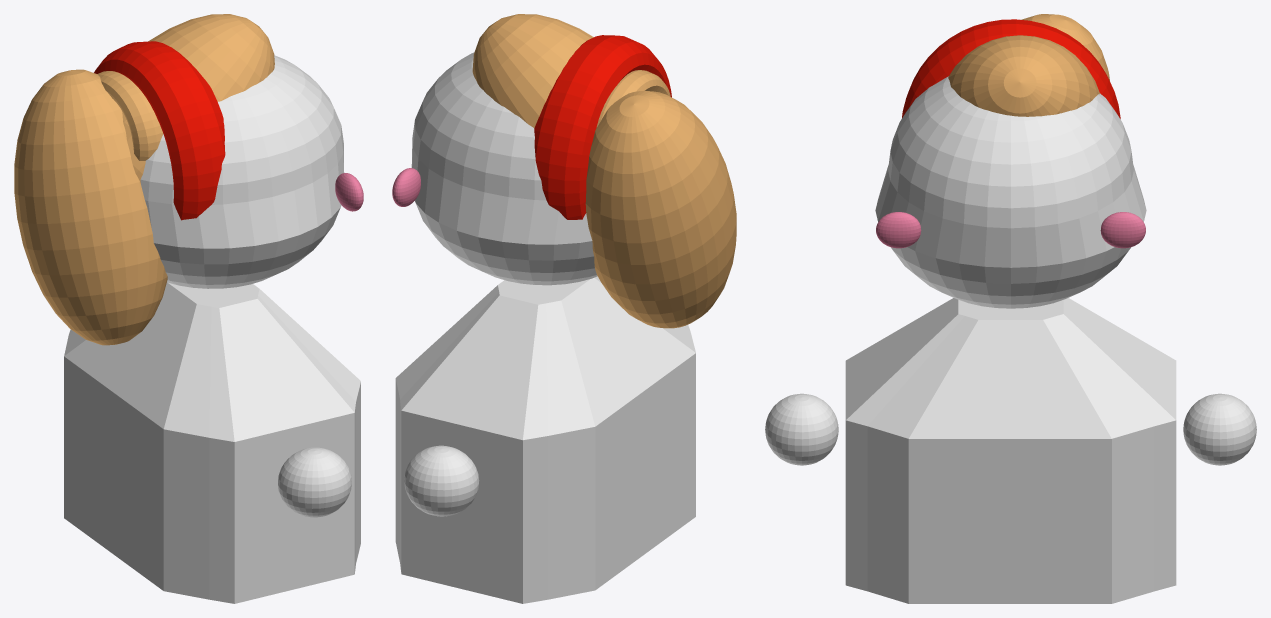
Rendered from Rebecca.fbx.
The picture shows the model from 3 angles, left to right: view 1: azimuth 30°, elevation 25°; view 2: azimuth 150°, elevation 25°; view 3: azimuth 270°, elevation 25°; orthographic projection.
Visible parts, largest first — view 1: Cube, Sphere.002, Sphere, Torus, Sphere.003, Sphere.001, Torus.001, Sphere.004; view 2: Cube, Sphere.002, Sphere, Torus, Sphere.003, Sphere.001, Torus.001, Sphere.004; view 3: Cube, Sphere, Sphere.003, Sphere.001, Torus, Sphere.004, Sphere.002.
Part boxes in pixels (x1=…): Cube: x1=64, y1=282, x2=360, y2=603; Sphere.002: x1=14, y1=69, x2=167, y2=345; Sphere: x1=140, y1=55, x2=344, y2=288; Torus: x1=94, y1=41, x2=225, y2=220; Sphere.003: x1=122, y1=14, x2=274, y2=183; Sphere.001: x1=278, y1=447, x2=351, y2=517; Torus.001: x1=97, y1=71, x2=163, y2=160; Sphere.004: x1=335, y1=173, x2=363, y2=211; Cube: x1=395, y1=276, x2=695, y2=603; Sphere.002: x1=585, y1=91, x2=736, y2=328; Sphere: x1=411, y1=52, x2=597, y2=285; Torus: x1=534, y1=35, x2=671, y2=219; Sphere.003: x1=472, y1=14, x2=593, y2=127; Sphere.001: x1=404, y1=445, x2=479, y2=516; Torus.001: x1=596, y1=70, x2=670, y2=127; Sphere.004: x1=392, y1=168, x2=420, y2=206; Cube: x1=845, y1=298, x2=1176, y2=603; Sphere: x1=875, y1=76, x2=1146, y2=308; Sphere.003: x1=948, y1=35, x2=1099, y2=116; Sphere.001: x1=765, y1=393, x2=1256, y2=465; Torus: x1=902, y1=19, x2=1120, y2=118; Sphere.004: x1=876, y1=212, x2=1145, y2=248; Sphere.002: x1=1021, y1=14, x2=1109, y2=80.
Size of the model in its own units: 253 by 410 by 356.
